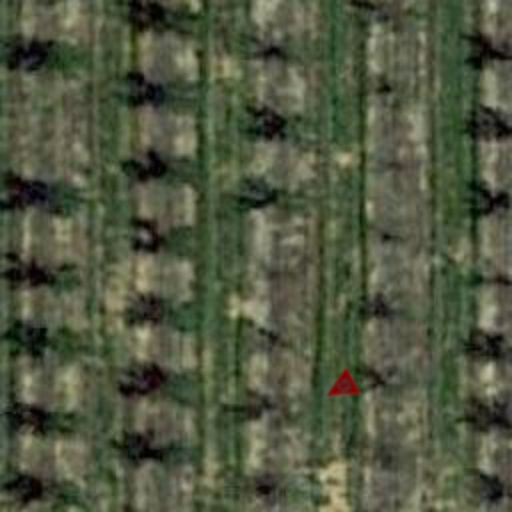triangle: (318, 366, 362, 410)
